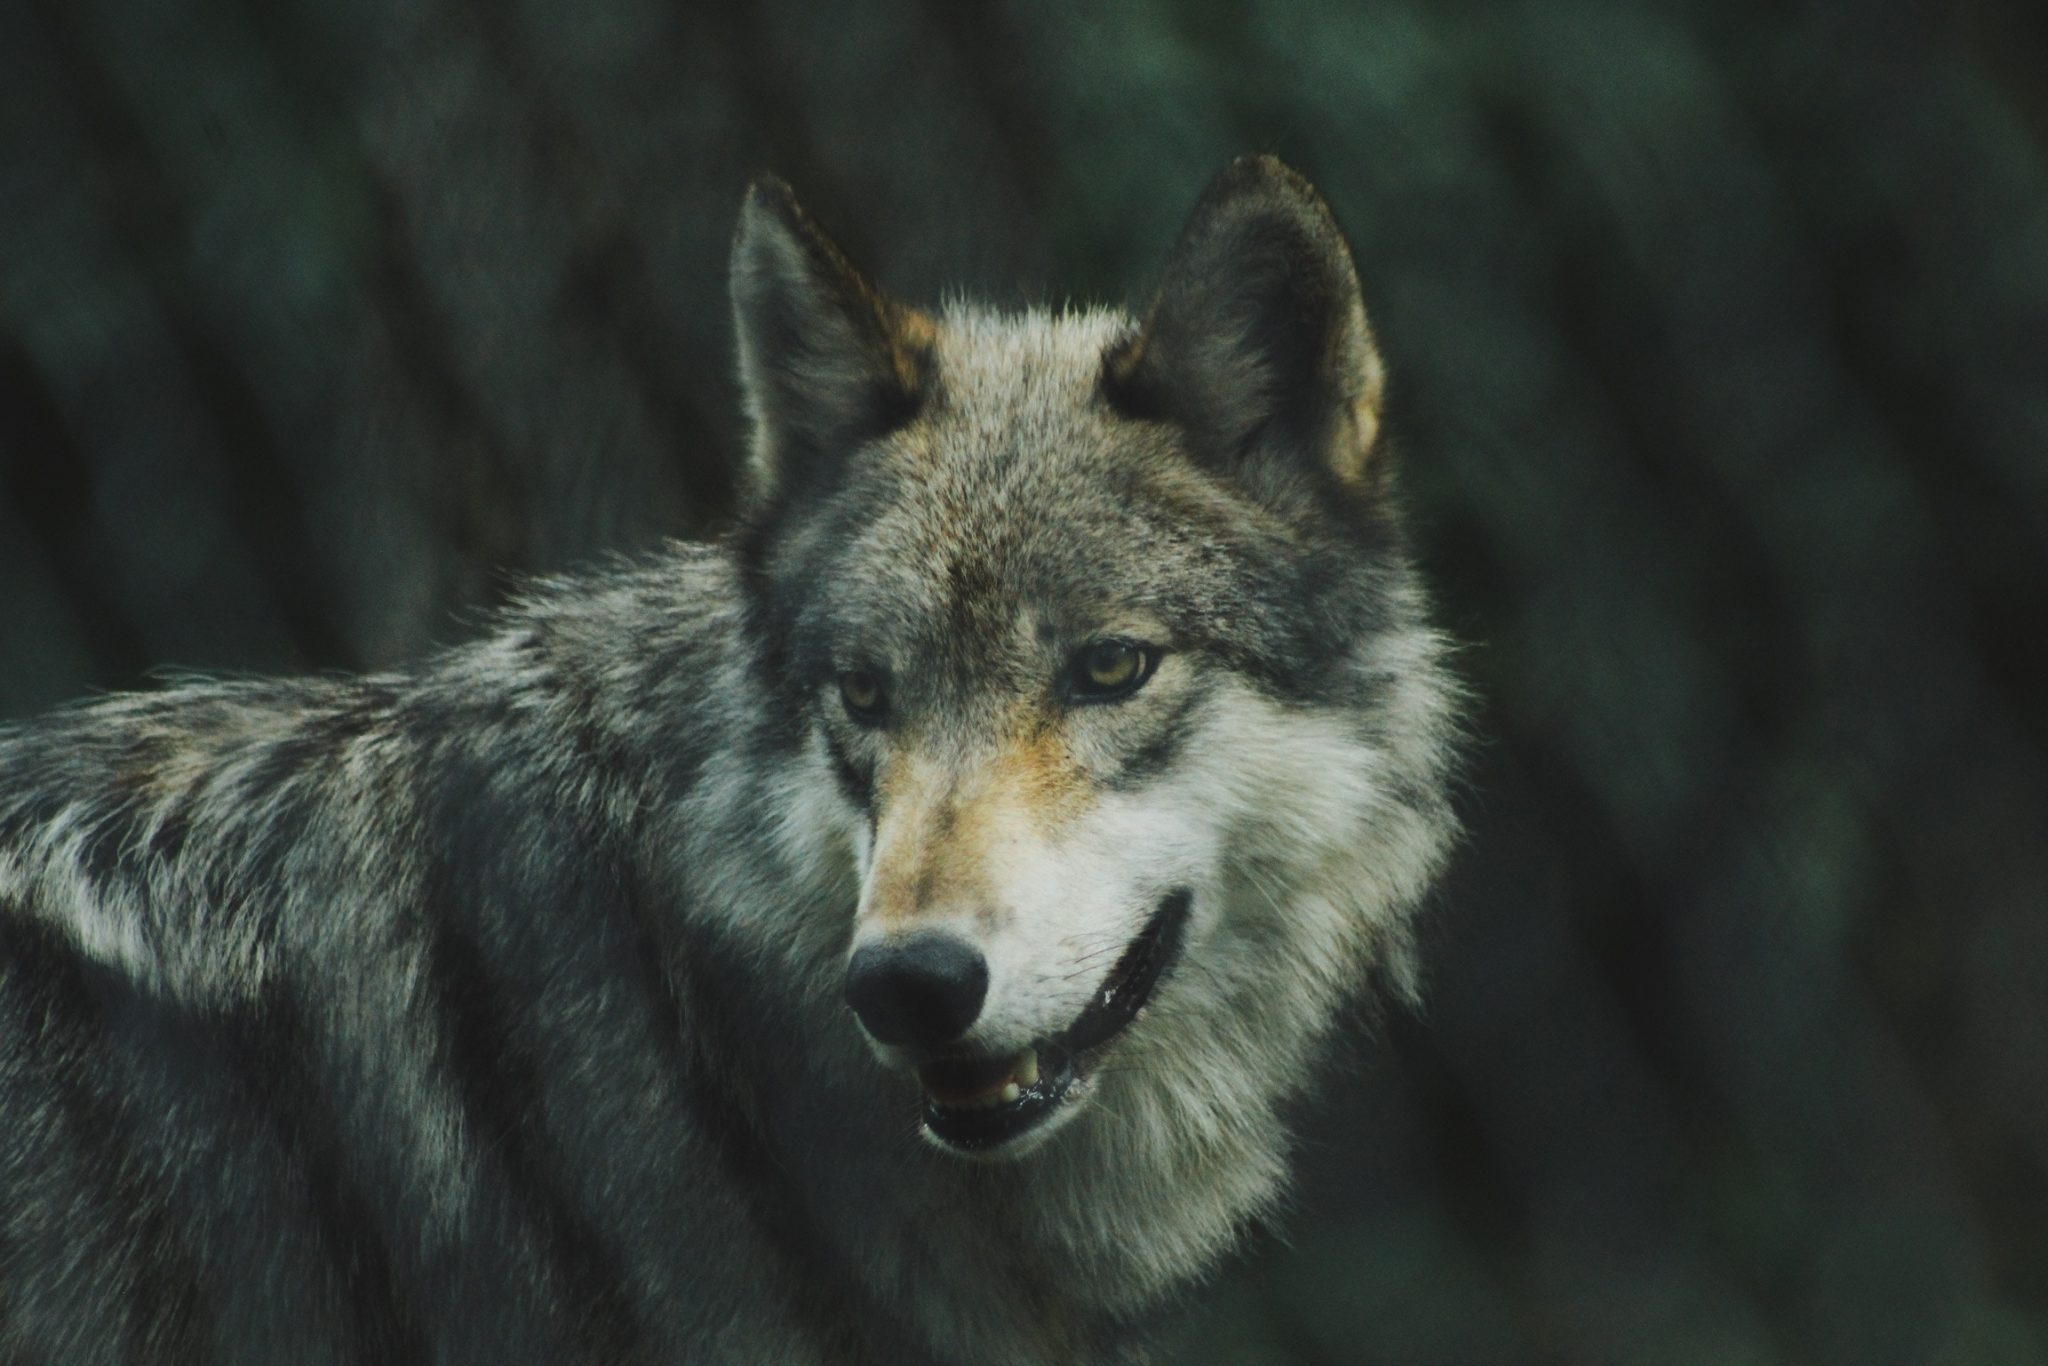Lobo: (325, 130, 1495, 1319)
